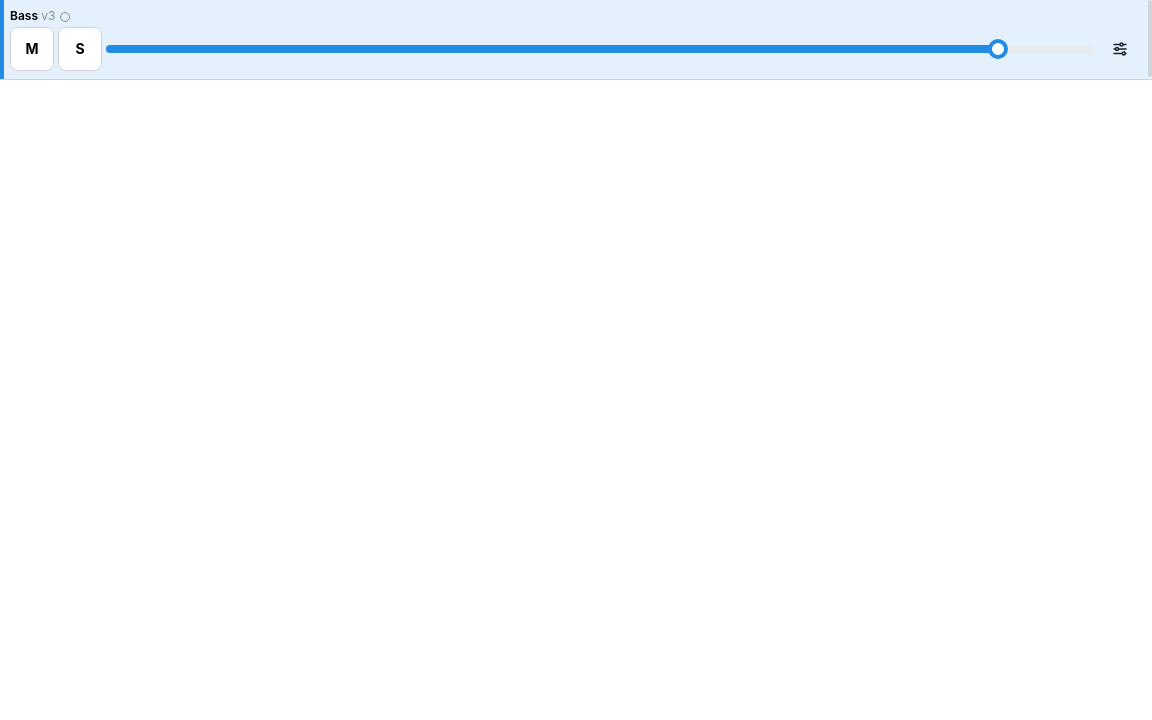
Test: TrackStrip mono/stereo mark › the settings popover spells it out on short lanes
Click the button with test id "track-settings": (1120, 49) [1098,27,1142,71]
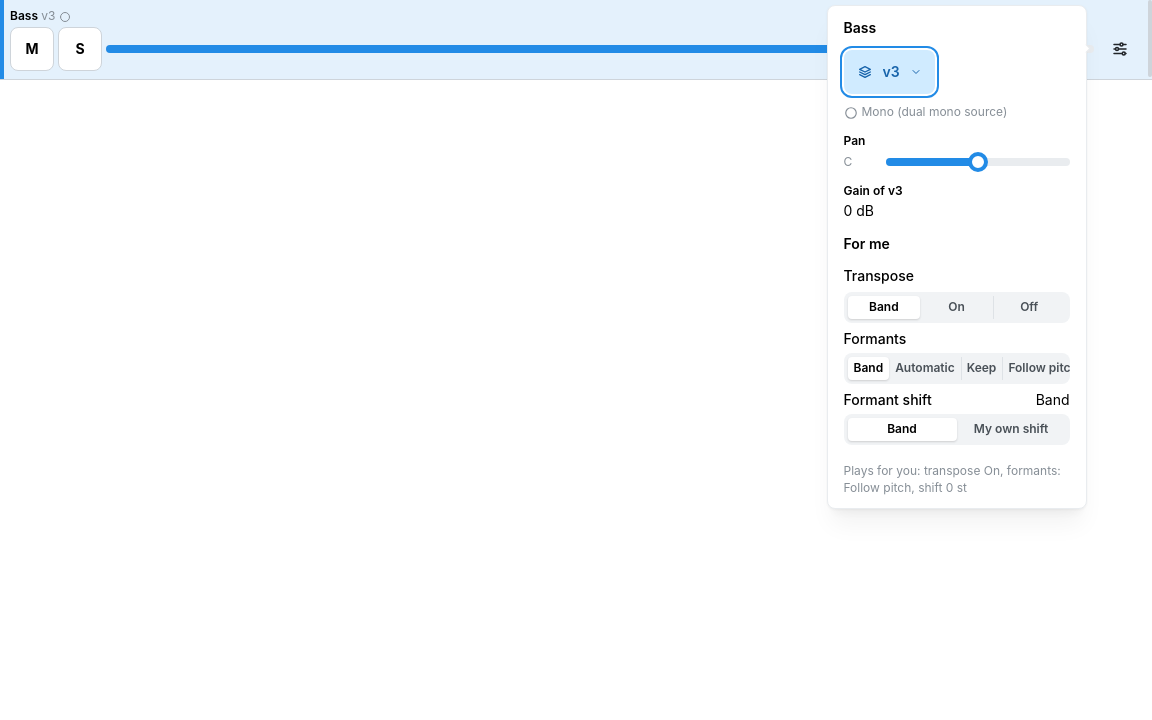
Expected: the element with test id "track-channels-text" reads "Mono (dual mono source)", [862,104,1007,119]
